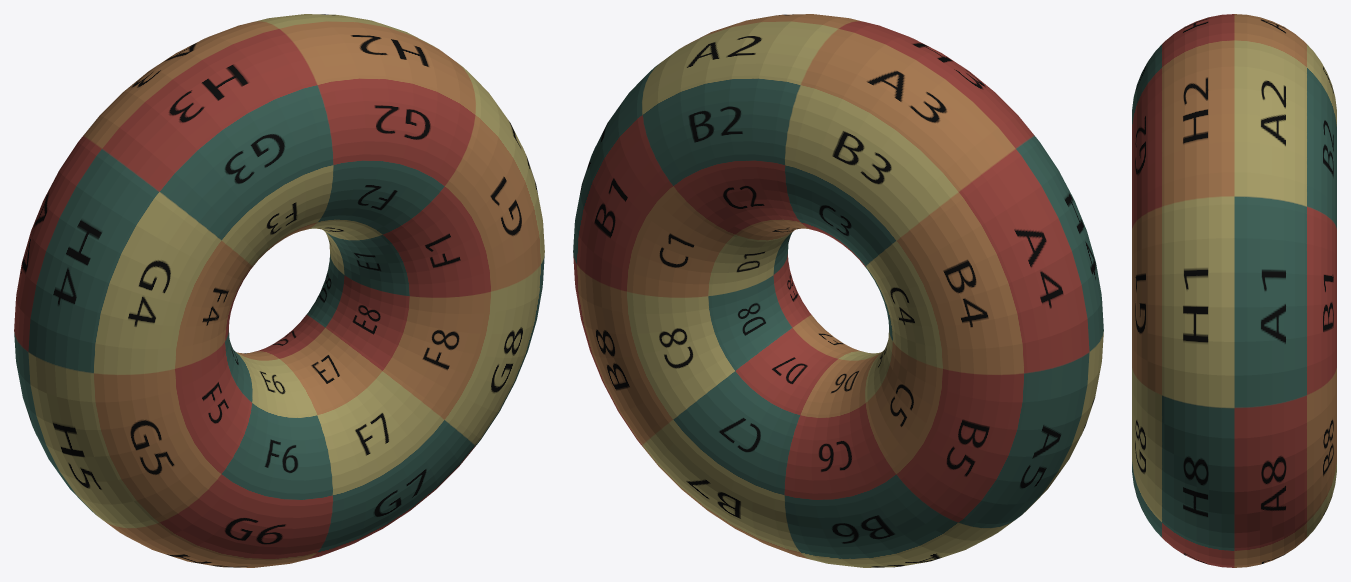
Rendered from texture_torus_R3_r19.glb.
3 renders of one model, left to right at view 1: azimuth 30°, elevation 25°; view 2: azimuth 150°, elevation 25°; view 3: azimuth 270°, elevation 25°, orthographic. The views are drawn at different scales.
Visible parts, largest first — view 1: world; view 2: world; view 3: world.
Part boxes in pixels (left/top/right/bottom): world: left=14, top=14, right=544, bottom=567; world: left=573, top=14, right=1103, bottom=567; world: left=1132, top=14, right=1336, bottom=567.
Bounding box in the file's own units: 19.07 × 19.03 × 7.05.
Materials: 1 (1 with a texture image).
